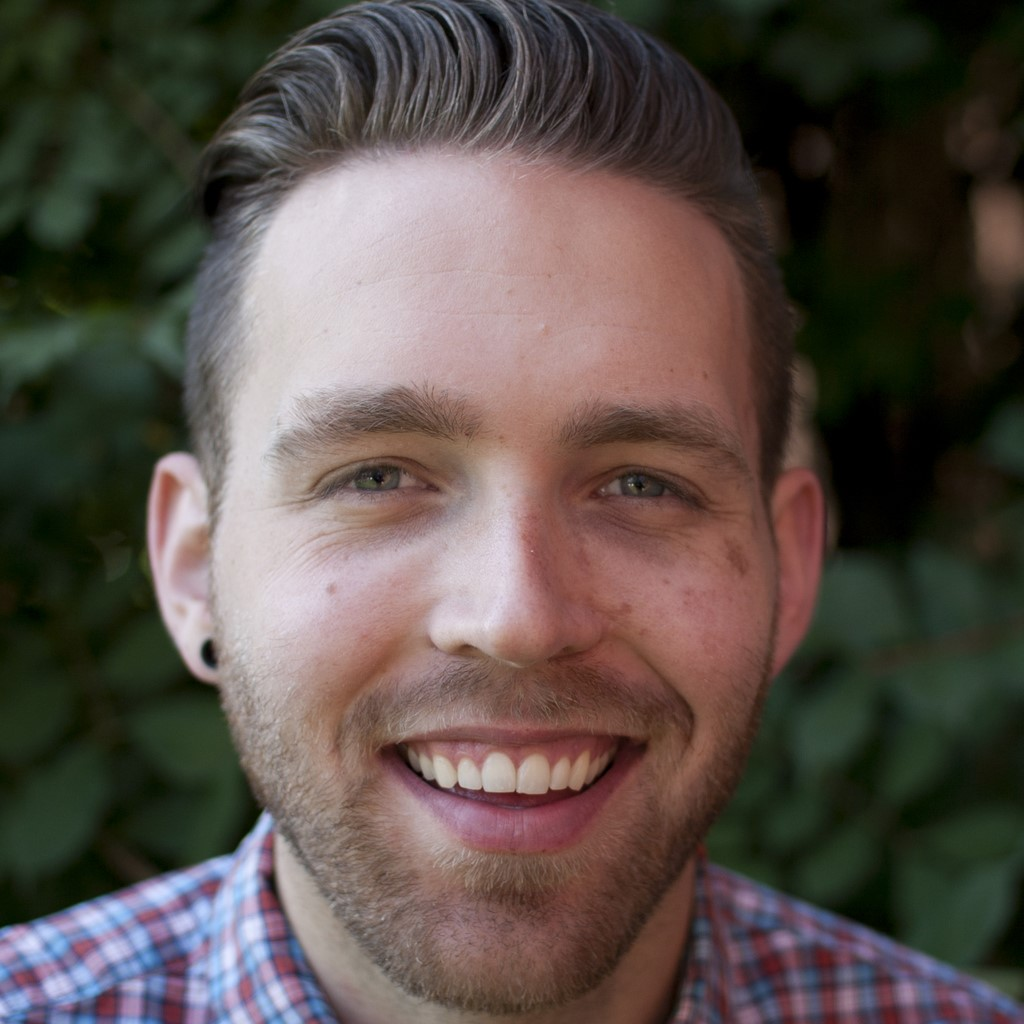sin_mascara: (219, 141, 787, 976)
